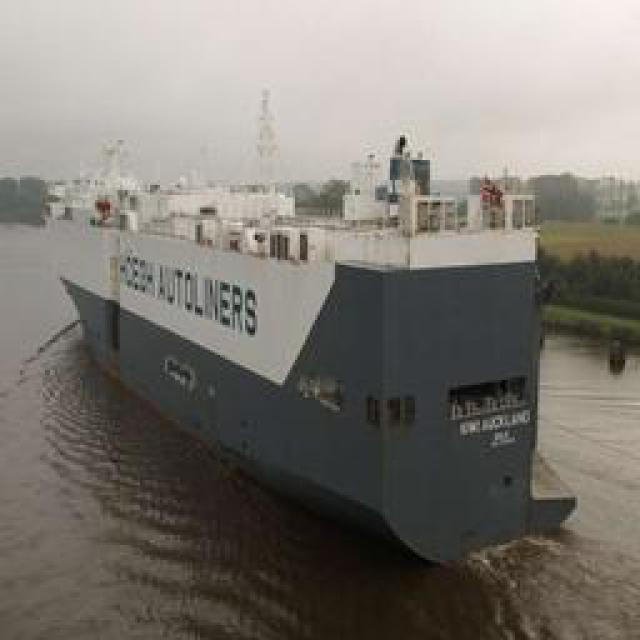Ship: (16, 82, 592, 582)
